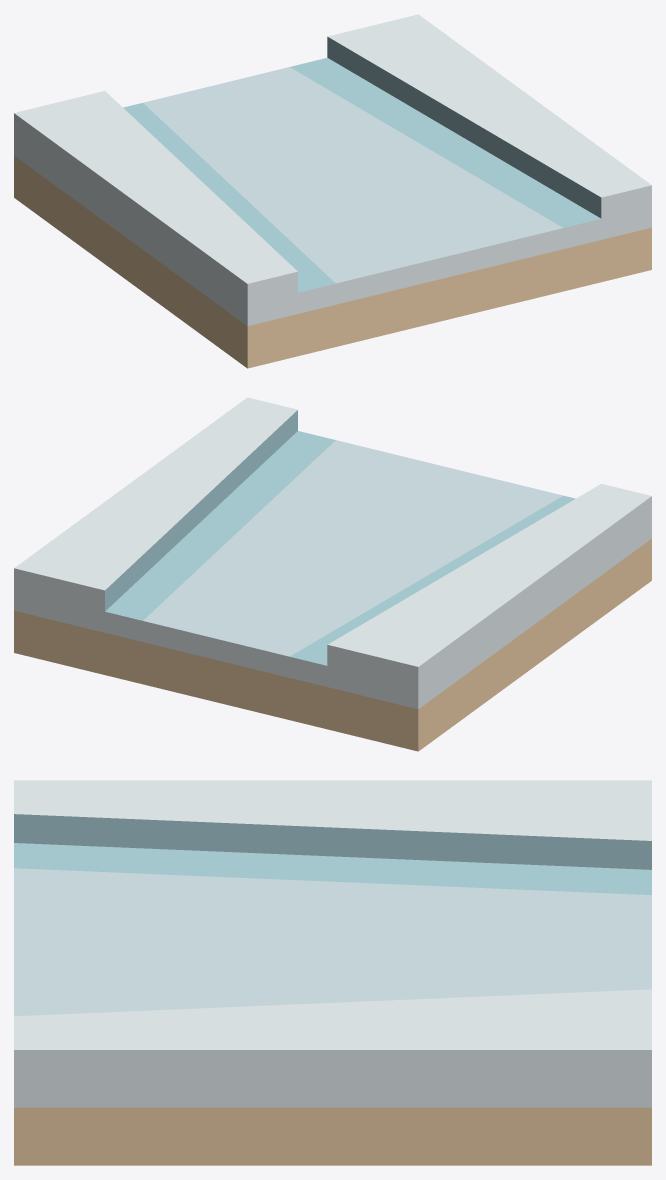
The model's file is snow_tile_transition.glb.
3 views of the same model, one above another, from view 1: azimuth 30°, elevation 25°; view 2: azimuth 150°, elevation 25°; view 3: azimuth 270°, elevation 25° (orthographic). The views are drawn at different scales.
Parts seen in each view (by area): view 1: snow_tile_transition; view 2: snow_tile_transition; view 3: snow_tile_transition.
Part boxes in pixels (box(x1,y1,x2,y2)): snow_tile_transition: box(14, 14, 651, 368); snow_tile_transition: box(14, 397, 651, 751); snow_tile_transition: box(14, 780, 651, 1165).
Size of the model in its own units: 1 by 0.2 by 1.
